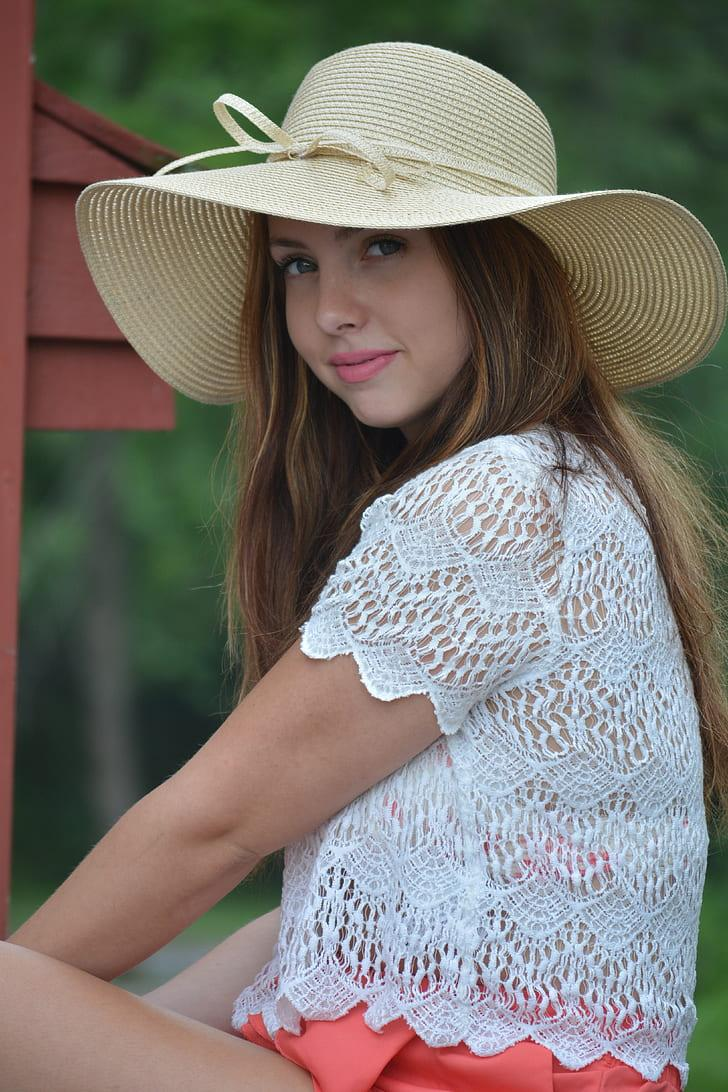cap: (47, 0, 710, 433)
